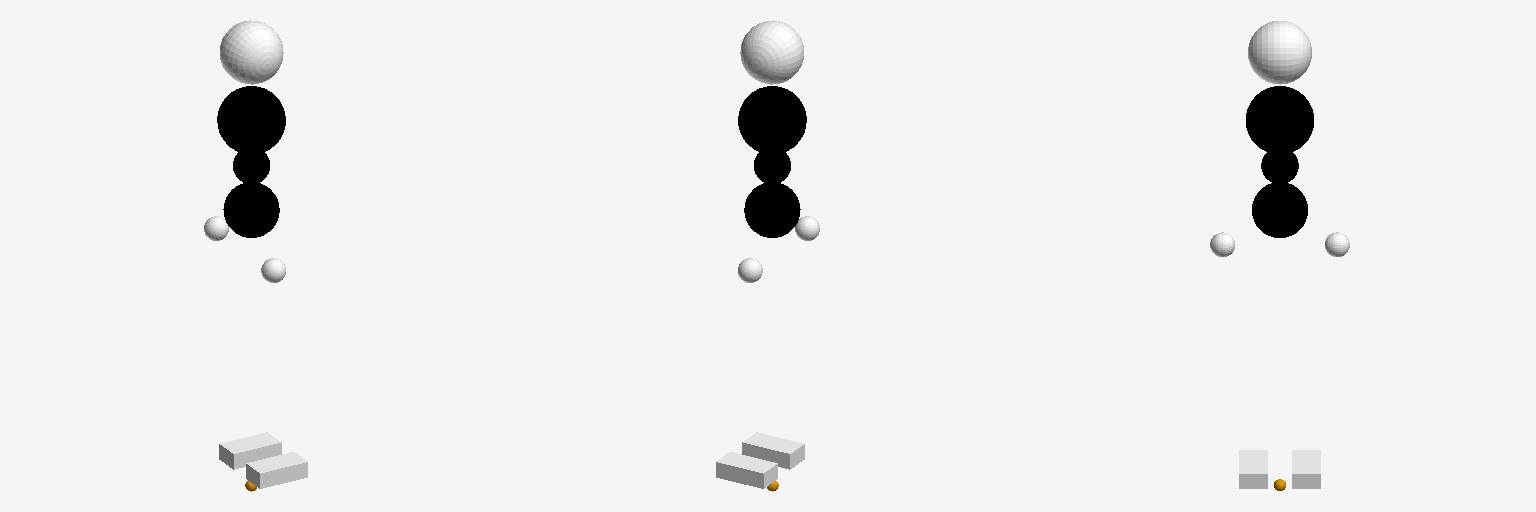
URDF robot description (dumpUrdf):
<?xml version="1.0" ?>

<robot name="dumpUrdf">

  <material name="white">
    <color rgba="1.0 1.0 1.0 1"/>
  </material>

  <material name="silver">
    <color rgba="0.75 0.75 0.75 1"/>
  </material>

  <material name="gray">
    <color rgba="0.5 0.5 0.5 1"/>
  </material>

  <material name="black">
    <color rgba="0.0 0.0 0.0 1"/>
  </material>

	<link name="base" >
		<inertial>
				<origin rpy = "0 0 0" xyz = "0 0 0.250000" />
			 <mass value = "150." />
			<inertia ixx = "0" ixy = "0" ixz = "0" iyy = "0" iyz = "0" izz = "0" />
		</inertial>
		<collision>
				<origin rpy = "0 0 0" xyz = "0.000000 0.00000 0.750000" />
			<geometry>
				<cylinder length="1.500000" radius="0.250000"/>
			</geometry>
		</collision>
		<visual>
				<origin rpy = "0 0 0" xyz = "0.000000 0.00000 -0.030000" />
			<geometry>
				<sphere radius="0.020000"/>
			</geometry>
		</visual>
    <contact>
      <friction_anchor/>
      <stiffness value="30000.0"/>
      <damping value="1000.0"/>
      <spinning_friction value="0.0"/>
      <lateral_friction value="0.0"/>
    </contact>

	</link>

	<link name="root" >
		<inertial>
				<origin rpy = "0 0 0" xyz = "0.000000 0.040000 0.000000" />
			 <mass value = "0.10" />
			<inertia ixx = "0" ixy = "0" ixz = "0" iyy = "0" iyz = "0" izz = "0" />
		</inertial>
		<visual>
				<origin rpy = "0 0 0" xyz = "0.000000 0.040000 0.000000" />
			<geometry>
				<sphere radius = "0.090000" />
			</geometry>
      <material name="black"/>
		</visual>
	</link>

	<link name="chest" >
		<inertial>
				<origin rpy = "0 0 0" xyz = "0.000000 0.120000 0.000000" />
			 <mass value = "0.10" />
			<inertia ixx = "0" ixy = "0" ixz = "0" iyy = "0" iyz = "0" izz = "0" />
		</inertial>
		<visual>
				<origin rpy = "0 0 0" xyz = "0.000000 0.120000 0.000000" />
			<geometry>
				<sphere radius = "0.110000" />
			</geometry>
      <material name="black"/>
		</visual>
		<visual>
				<origin rpy = "0 0 0" xyz = "0.000000 -0.04000 0.000000" />
			<geometry>
				<sphere radius = "0.060000" />
			</geometry>
      <material name="black"/>
		</visual>

	</link>

	<link name="neck" >
		<inertial>
				<origin rpy = "0 0 0" xyz = "0.000000 0.135000 0.000000" />
			 <mass value = "0.10" />
			<inertia ixx = "0" ixy = "0" ixz = "0" iyy = "0" iyz = "0" izz = "0" />
		</inertial>
		<visual>
				<origin rpy = "0 0 0" xyz = "0.000000 0.135000 0.000000" />
			<geometry>
				<sphere radius = "0.102500" />
			</geometry>
      <material name="white"/>
		</visual>
	</link>

	<link name="right_hip" >
		<inertial>
				<origin rpy = "0 0 0" xyz = "0.000000 -0.210000 0.000000" />
			 <mass value = "0.10" />
			<inertia ixx = "0" ixy = "0" ixz = "0" iyy = "0" iyz = "0" izz = "0" />
		</inertial>
		<visual>
				<origin rpy = "-1.570796 0 0" xyz = "0.000000 -0.210000 0.000000" />
			<geometry>
				<capsule length="0.300000" radius="0.044000"/>
			</geometry>
      <material name="gray"/>
		</visual>
	</link>

	<link name="right_knee" >
		<inertial>
				<origin rpy = "0 0 0" xyz = "0.000000 -0.200000 0.000000" />
			 <mass value = "0.10" />
			<inertia ixx = "0" ixy = "0" ixz = "0" iyy = "0" iyz = "0" izz = "0" />
		</inertial>
		<visual>
				<origin rpy = "-1.570796 0 0" xyz = "0.000000 -0.200000 0.000000" />
			<geometry>
				<capsule length="0.370000" radius="0.050000"/>
			</geometry>
      <material name="silver"/>
		</visual>
	</link>

	<link name="right_ankle" >
		<inertial>
				<origin rpy = "0 0 0" xyz = "0.045000 -0.022500 0.000000" />
			 <mass value = "0.10" />
			<inertia ixx = "0" ixy = "0" ixz = "0" iyy = "0" iyz = "0" izz = "0" />
		</inertial>
		<visual>
				<origin rpy = "0 0 0" xyz = "0.045000 -0.022500 0.000000" />
			<geometry>
				<box size="0.177000 0.055000 0.090000" />
			</geometry>
      <material name="white"/>
		</visual>
	</link>

	<link name="right_shoulder" >
		<inertial>
				<origin rpy = "0 0 0" xyz = "0.000000 -0.140000 0.000000" />
			 <mass value = "0.10" />
			<inertia ixx = "0" ixy = "0" ixz = "0" iyy = "0" iyz = "0" izz = "0" />
		</inertial>
		<visual>
				<origin rpy = "-1.570796 0 0" xyz = "0.000000 -0.140000 0.000000" />
			<geometry>
				<capsule length="0.180000" radius="0.045000"/>
			</geometry>
      <material name="gray"/>
		</visual>
	</link>

	<link name="right_elbow" >
		<inertial>
				<origin rpy = "0 0 0" xyz = "0.000000 -0.120000 0.000000" />
			 <mass value = "0.10" />
			<inertia ixx = "0" ixy = "0" ixz = "0" iyy = "0" iyz = "0" izz = "0" />
		</inertial>
		<visual>
				<origin rpy = "-1.570796 0 0" xyz = "0.000000 -0.120000 0.000000" />
			<geometry>
				<capsule length="0.135000" radius="0.040000"/>
			</geometry>
      <material name="silver"/>
		</visual>
	</link>

	<link name="right_wrist" >
		<inertial>
				<origin rpy = "0 0 0" xyz = "0.000000 0.000000 0.000000" />
			 <mass value = "0.10" />
			<inertia ixx = "0" ixy = "0" ixz = "0" iyy = "0" iyz = "0" izz = "0" />
		</inertial>
		<visual>
				<origin rpy = "0 0 0" xyz = "0.000000 0.000000 0.000000" />
			<geometry>
				<sphere radius = "0.040000" />
			</geometry>
      <material name="white"/>
		</visual>
	</link>

	<link name="left_hip" >
		<inertial>
				<origin rpy = "0 0 0" xyz = "0.000000 -0.210000 0.000000" />
			 <mass value = "0.10" />
			<inertia ixx = "0" ixy = "0" ixz = "0" iyy = "0" iyz = "0" izz = "0" />
		</inertial>
		<visual>
				<origin rpy = "-1.570796 0 0" xyz = "0.000000 -0.210000 0.000000" />
			<geometry>
				<capsule length="0.300000" radius="0.055000"/>
			</geometry>
      <material name="gray"/>
		</visual>
	</link>

	<link name="left_knee" >
		<inertial>
				<origin rpy = "0 0 0" xyz = "0.000000 -0.200000 0.000000" />
			 <mass value = "0.10" />
			<inertia ixx = "0" ixy = "0" ixz = "0" iyy = "0" iyz = "0" izz = "0" />
		</inertial>
		<visual>
				<origin rpy = "-1.570796 0 0" xyz = "0.000000 -0.200000 0.000000" />
			<geometry>
				<capsule length="0.310000" radius="0.050000"/>
			</geometry>
      <material name="silver"/>
		</visual>
	</link>

	<link name="left_ankle" >
		<inertial>
				<origin rpy = "0 0 0" xyz = "0.045000 -0.022500 0.000000" />
			 <mass value = "0.10" />
			<inertia ixx = "0" ixy = "0" ixz = "0" iyy = "0" iyz = "0" izz = "0" />
		</inertial>
		<visual>
				<origin rpy = "0 0 0" xyz = "0.045000 -0.022500 0.000000" />
			<geometry>
				<box size="0.177000 0.055000 0.090000" />
			</geometry>
      <material name="white"/>
		</visual>
	</link>

	<link name="left_shoulder" >
		<inertial>
				<origin rpy = "0 0 0" xyz = "0.000000 -0.140000 0.000000" />
			 <mass value = "0.10" />
			<inertia ixx = "0" ixy = "0" ixz = "0" iyy = "0" iyz = "0" izz = "0" />
		</inertial>
		<visual>
				<origin rpy = "-1.570796 0 0" xyz = "0.000000 -0.140000 0.000000" />
			<geometry>
				<capsule length="0.180000" radius="0.045000"/>
			</geometry>
      <material name="gray"/>
		</visual>
	</link>

	<link name="left_elbow" >
		<inertial>
				<origin rpy = "0 0 0" xyz = "0.000000 -0.120000 0.000000" />
			 <mass value = "0.10" />
			<inertia ixx = "0" ixy = "0" ixz = "0" iyy = "0" iyz = "0" izz = "0" />
		</inertial>
		<visual>
				<origin rpy = "-1.570796 0 0" xyz = "0.000000 -0.120000 0.000000" />
			<geometry>
				<capsule length="0.135000" radius="0.040000"/>
			</geometry>
      <material name="silver"/>
		</visual>
	</link>

	<link name="left_wrist" >
		<inertial>
				<origin rpy = "0 0 0" xyz = "0.000000 0.000000 0.000000" />
			 <mass value = "0.10" />
			<inertia ixx = "0" ixy = "0" ixz = "0" iyy = "0" iyz = "0" izz = "0" />
		</inertial>
		<visual>
				<origin rpy = "0 0 0" xyz = "0.000000 0.000000 0.000000" />
			<geometry>
				<sphere radius = "0.040000" />
			</geometry>
      <material name="white"/>
		</visual>
	</link>



	<joint name="root" type="fixed" >
		<parent link = "base" />
		<child link="root" />
				<origin rpy = "1.570796 0 0" xyz = "0.000000 0.00000 0.90000" />
	</joint>

	<joint name="chest" type="revolute" >
		<parent link="root" />
		<child link="chest" />
		<limit effort="1000.0" lower="-1.57" upper="1.57" velocity="0.5"/>
				<origin rpy = "0 0 0" xyz = "0.000000 0.236151 0.000000" />
		<axis xyz = "0.000000 0.000000 1.000000" />
	</joint>

	<joint name="neck" type="revolute" >
		<parent link="chest" />
		<child link="neck" />
		<limit effort="1000.0" lower="-1.57" upper="1.57" velocity="0.5"/>
				<origin rpy = "0 0 0" xyz = "0.000000 0.223894 0.000000" />
		<axis xyz = "0.000000 0.000000 1.000000" />
	</joint>

	<joint name="right_hip" type="revolute" >
		<parent link="root" />
		<child link="right_hip" />
		<limit effort="1000.0" lower="-1.57" upper="1.57" velocity="0.5"/>
				<origin rpy = "0 0 0" xyz = "0.000000 0.000000 0.084887" />
		<axis xyz = "0.000000 0.000000 1.000000" />
	</joint>

	<joint name="right_knee" type="revolute" >
		<parent link="right_hip" />
		<child link="right_knee" />
		 <limit effort="1000.0" lower="-3.14" upper="0." velocity="0.5"/>
				<origin rpy = "0 0 0" xyz = "0.000000 -0.421546 0.000000" />
		<axis xyz = "0.000000 0.000000 1.000000" />
	</joint>

	<joint name="right_ankle" type="revolute" >
		<parent link="right_knee" />
		<child link="right_ankle" />
		<limit effort="1000.0" lower="0" upper="3.14" velocity="0.5"/>
				<origin rpy = "0 0 0" xyz = "0.000000 -0.40987 0.000000" />
		<axis xyz = "0.000000 0.000000 1.000000" />
	</joint>

	<joint name="right_shoulder" type="revolute" >
		<parent link="chest" />
		<child link="right_shoulder" />
		<limit effort="1000.0" lower="-1.57" upper="1.57" velocity="0.5"/>
				<origin rpy = "0 0 0" xyz = "-0.02405 0.2035 0.18311" />
		<axis xyz = "0.000000 0.000000 1.000000" />
	</joint>

	<joint name="right_elbow" type="revolute" >
		<parent link="right_shoulder" />
		<child link="right_elbow" />
		<limit effort="1000.0" lower="0" upper="3.14" velocity="0.5"/>
				<origin rpy = "0 0 0" xyz = "0.000000 -0.274788 0.000000" />
		<axis xyz = "0.000000 0.000000 1.000000" />
	</joint>

	<joint name="right_wrist" type="fixed" >
		<parent link="right_elbow" />
		<child link="right_wrist" />
				<origin rpy = "0 0 0" xyz = "0.000000 -0.258947 0.000000" />
	</joint>

	<joint name="left_hip" type="revolute" >
		<parent link="root" />
		<child link="left_hip" />
		<limit effort="1000.0" lower="-1.57" upper="1.57" velocity="0.5"/>
				<origin rpy = "0 0 0" xyz = "0.000000 0.000000 -0.084887" />
		<axis xyz = "0.000000 0.000000 1.000000" />
	</joint>

	<joint name="left_knee" type="revolute" >
		<parent link="left_hip" />
		<child link="left_knee" />
		<limit effort="1000.0" lower="-3.14" upper="0." velocity="0.5"/>
				<origin rpy = "0 0 0" xyz = "0.000000 -0.421546 0.000000" />
		<axis xyz = "0.000000 0.000000 1.000000" />
	</joint>

	<joint name="left_ankle" type="revolute" >
		<parent link="left_knee" />
		<child link="left_ankle" />
		<limit effort="1000.0" lower="0" upper="3.14" velocity="0.5"/>
				<origin rpy = "0 0 0" xyz = "0.000000 -0.40987 0.000000" />
		<axis xyz = "0.000000 0.000000 1.000000" />
	</joint>


	<joint name="left_shoulder" type="revolute" >
		<parent link="chest" />
		<child link="left_shoulder" />
		<limit effort="1000.0" lower="-1.57" upper="1.57" velocity="0.5"/>
				<origin rpy = "0 0 0" xyz = "-0.02405 0.2035 -0.18311" />
		<axis xyz = "0.000000 0.000000 1.000000" />
	</joint>

	<joint name="left_elbow" type="revolute" >
		<parent link="left_shoulder" />
		<child link="left_elbow" />
		<limit effort="1000.0" lower="0" upper="3.14" velocity="0.5"/>
				<origin rpy = "0 0 0" xyz = "0.000000 -0.274788 0.000000" />
		<axis xyz = "0.000000 0.000000 1.000000" />
	</joint>

	<joint name="left_wrist" type="fixed" >
		<parent link="left_elbow" />
		<child link="left_wrist" />
				<origin rpy = "0 0 0" xyz = "0.000000 -0.258947 0.000000" />
	</joint>

</robot>

--- What the picture shows (computed from the rendered views, not written in the file) ---
The picture shows the robot from 3 angles, left to right: view 1: azimuth 30°, elevation 25°; view 2: azimuth 150°, elevation 25°; view 3: azimuth 270°, elevation 25°; orthographic projection.
Robot: dumpUrdf — 16 links, 15 joints (12 revolute, 3 fixed); root link base; default pose: every joint at zero.
Links seen in each view (by area): view 1: chest, neck, root, right_ankle, left_ankle; view 2: chest, neck, root, left_ankle, right_ankle; view 3: chest, neck, root, right_ankle, left_ankle.
Boxes of the visible links, bbox=[...] form: chest: bbox=[217, 86, 285, 183]; neck: bbox=[220, 20, 283, 84]; root: bbox=[223, 183, 279, 237]; right_ankle: bbox=[246, 452, 307, 488]; left_ankle: bbox=[219, 432, 281, 469]; chest: bbox=[738, 86, 806, 183]; neck: bbox=[740, 20, 803, 84]; root: bbox=[744, 183, 800, 237]; left_ankle: bbox=[716, 452, 777, 488]; right_ankle: bbox=[742, 432, 804, 469]; chest: bbox=[1246, 86, 1313, 183]; neck: bbox=[1248, 21, 1311, 84]; root: bbox=[1252, 183, 1307, 237]; right_ankle: bbox=[1239, 450, 1267, 488]; left_ankle: bbox=[1292, 450, 1320, 488].
Size in the robot's own frame: 0.2435 by 0.4462 by 1.65 metres.
Geometry: primitives only (box / cylinder / sphere), no mesh files.